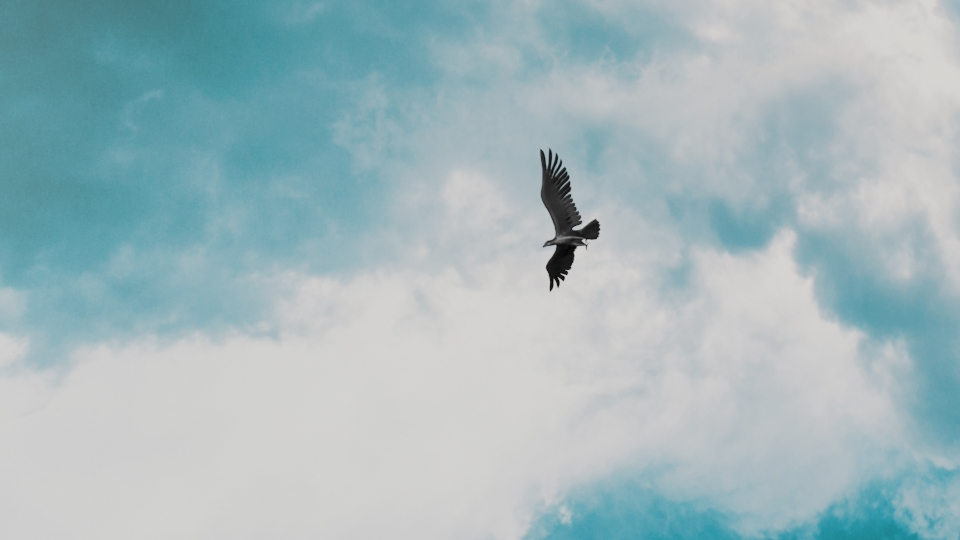bird: (542, 146, 603, 293)
